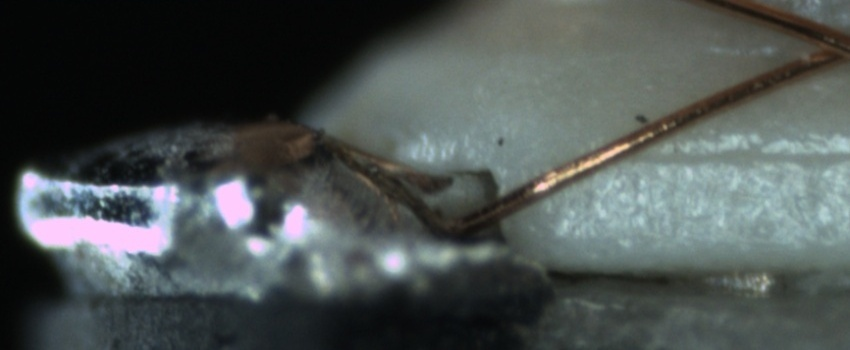CL: (794, 19, 850, 74)
DL: (612, 120, 847, 191)
